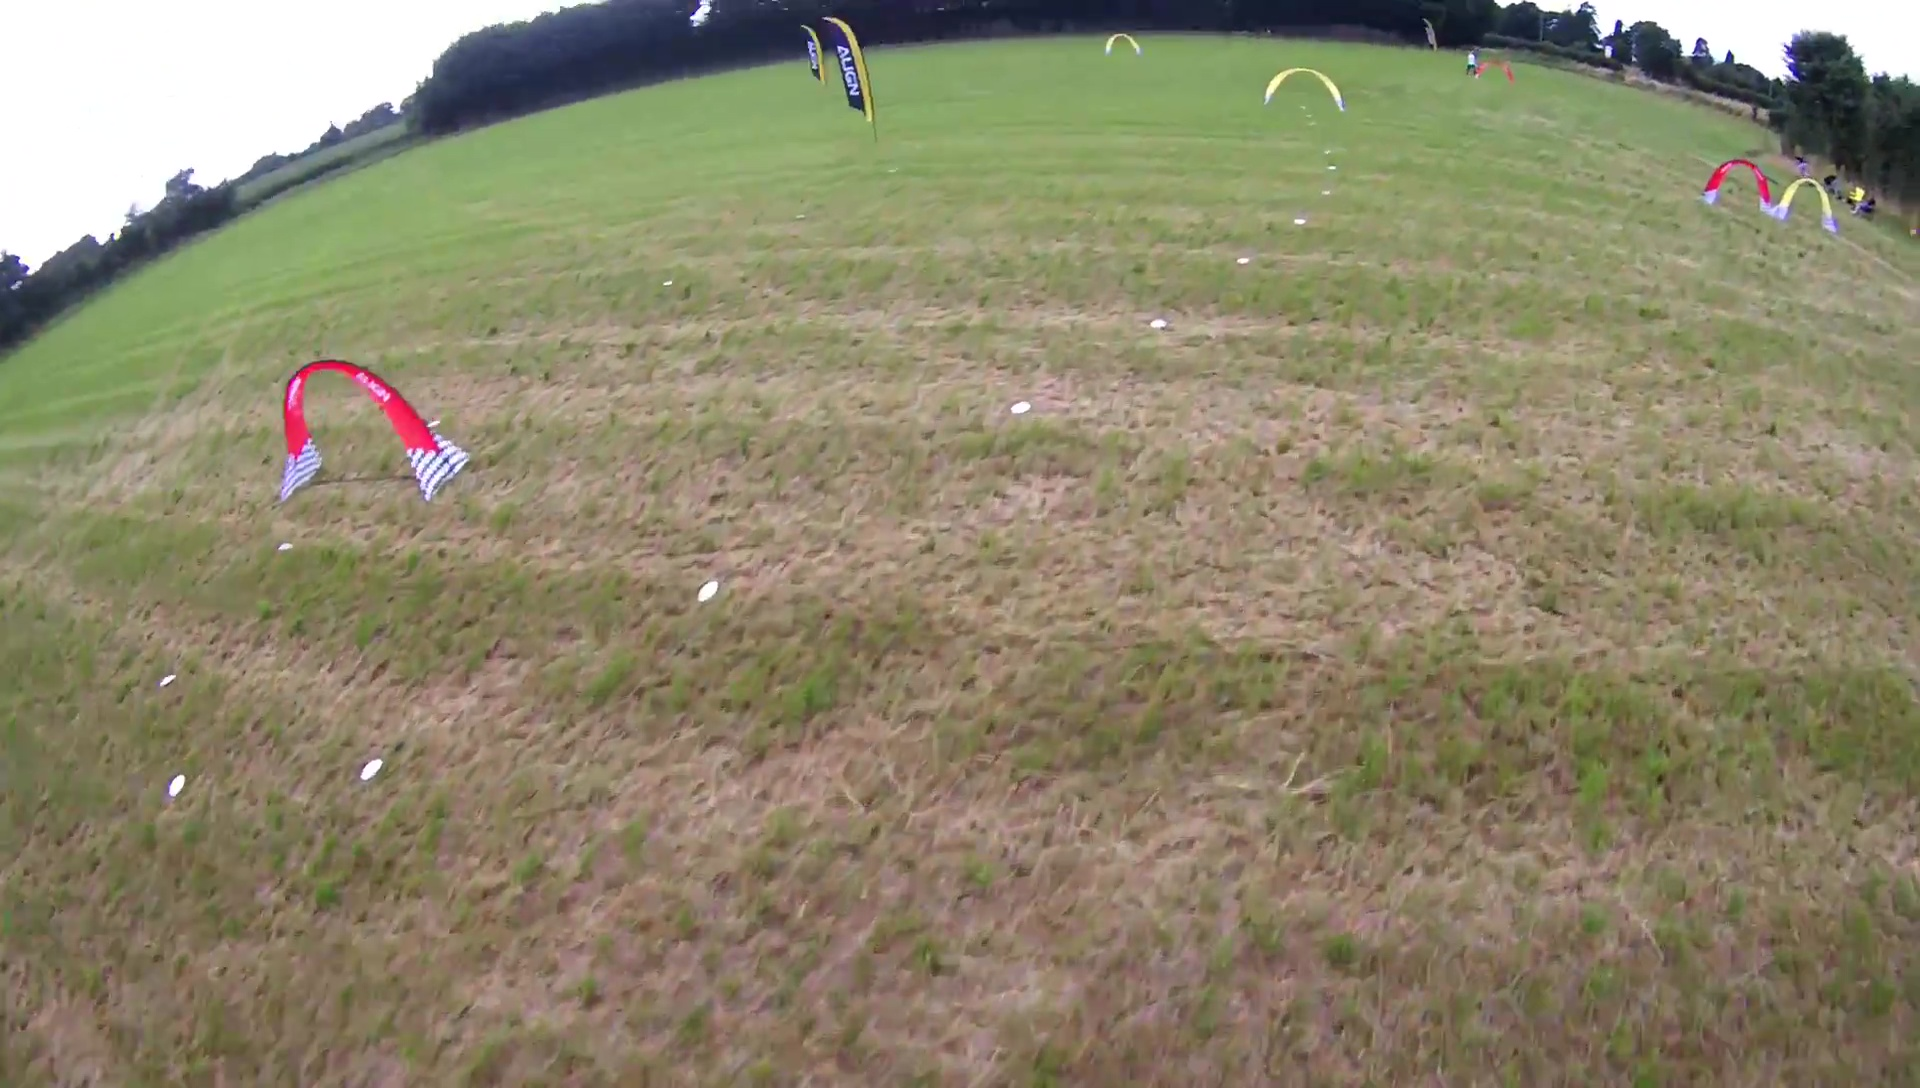gate: (276, 357, 473, 504), (1262, 65, 1348, 113), (1701, 158, 1774, 215), (1775, 174, 1840, 235), (1102, 33, 1145, 57)
